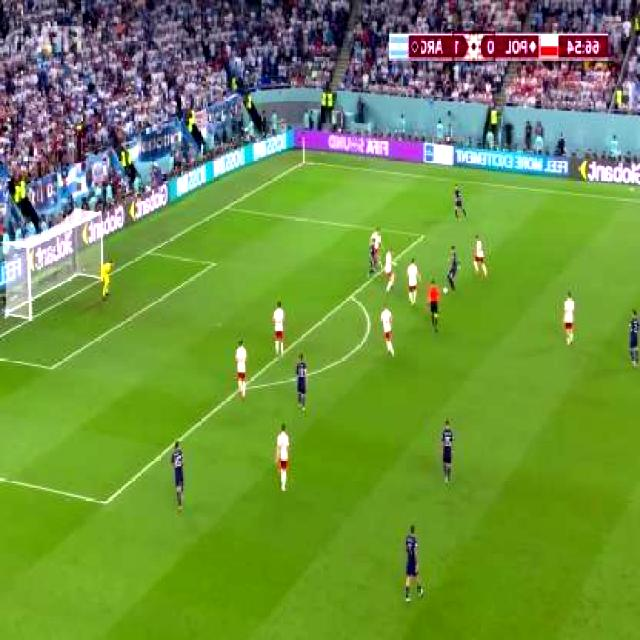bigarea_bottom_inner: (102, 494, 110, 511)
bigarea_top_inner: (420, 232, 426, 242)
bigarea_top_outter: (223, 203, 231, 212)
corner: (302, 158, 309, 170)
smallarea_bottom_inner: (48, 360, 57, 375)
smallarea_top_inner: (208, 257, 220, 272)
smallarea_top_outter: (145, 248, 152, 260)
top_arc_area_intersection: (346, 289, 357, 302)
